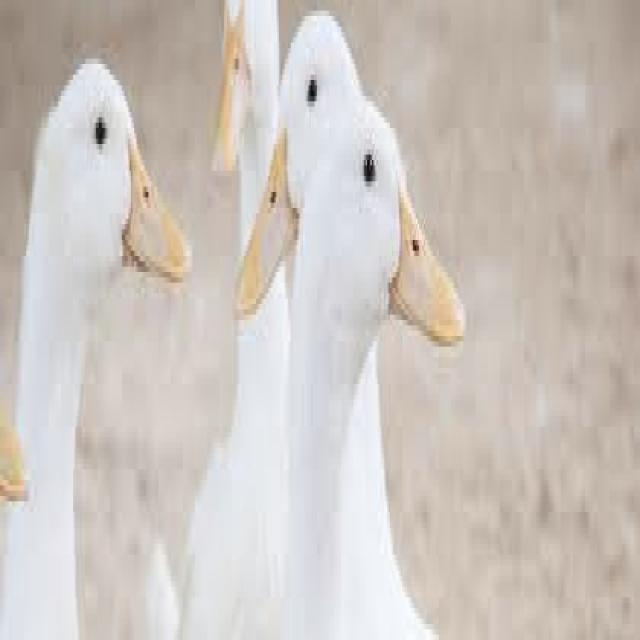duck: (3, 59, 190, 635), (288, 91, 463, 635), (238, 11, 361, 309)
